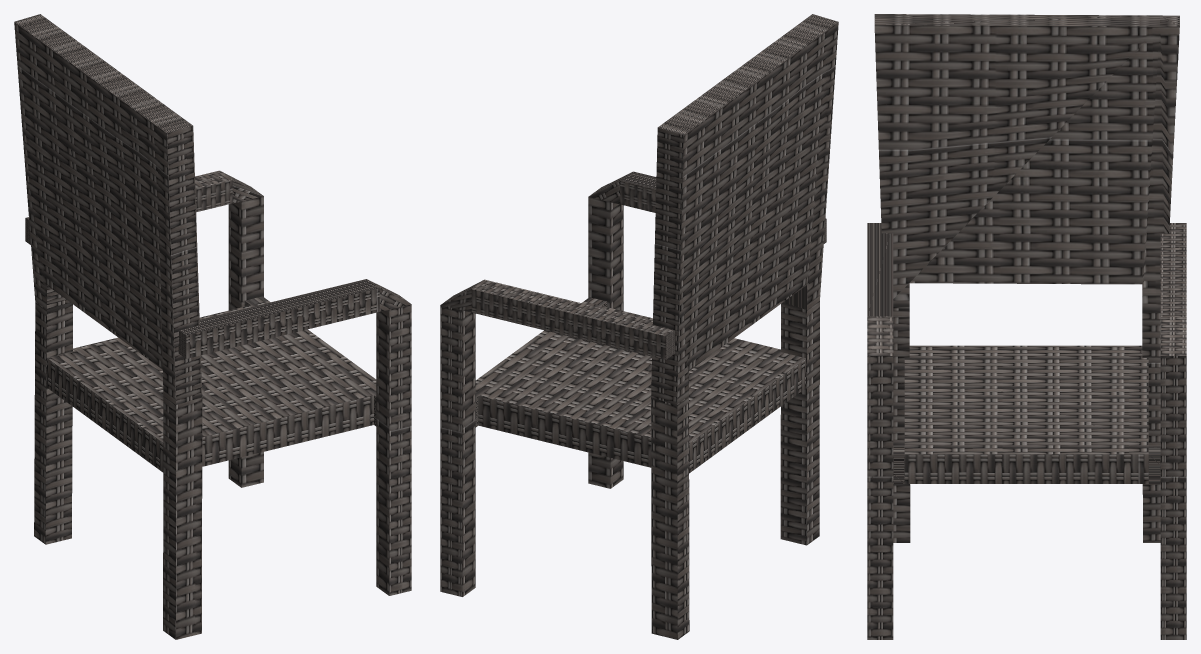
Rendered from chair 1.fbx.
3 views of the same model, side by side, from view 1: azimuth 30°, elevation 25°; view 2: azimuth 150°, elevation 25°; view 3: azimuth 270°, elevation 25° (orthographic).
Parts seen in each view (by area): view 1: Cube.005; view 2: Cube.005; view 3: Cube.005.
Part boxes in pixels (x1,y1,x2,y2): Cube.005: (14, 14, 411, 639); Cube.005: (440, 14, 838, 639); Cube.005: (867, 14, 1186, 639).
Bounding box in the file's own units: 49.96 × 102 × 57.72.
1 material, 1 textured.
